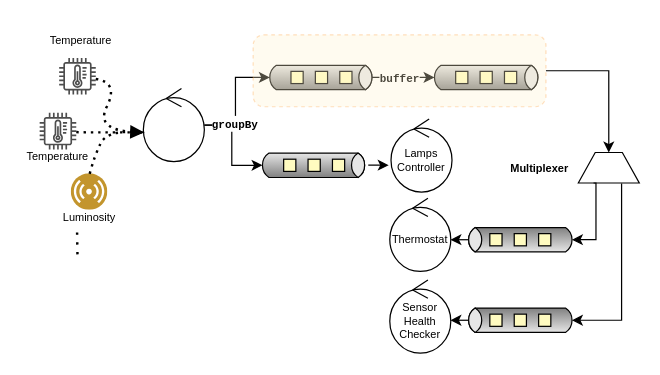
This 660x375 diagram has some shape labels left out. Here are the shapes that lost their labels. From the top down, the centre of each, then its label:
At point (399, 70): "pipeline of transformations".
At point (173, 124): "HUB Receiver".
